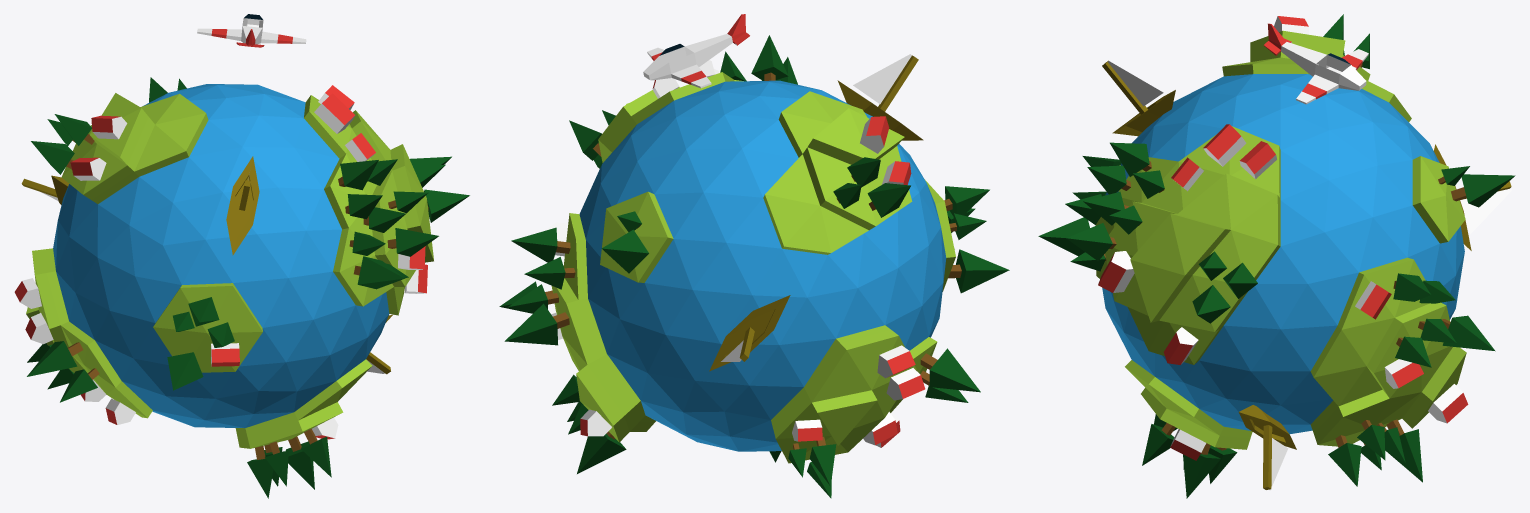
Rendered from planet3.glb.
3 views of the same model, side by side, from view 1: azimuth 30°, elevation 25°; view 2: azimuth 150°, elevation 25°; view 3: azimuth 270°, elevation 25° (orthographic). The views are drawn at different scales.
Parts seen in each view (by area): view 1: earth, tree.001, house, boat, airplane, boat.002; view 2: earth, tree.001, house, airplane, boat, boat.002; view 3: earth, tree.001, house, airplane, boat, boat.001, boat.002.
Part boxes in pixels (x1,y1,x2,y2): earth: (26, 84, 433, 448); tree.001: (27, 77, 469, 498); house: (14, 85, 427, 439); boat: (226, 156, 259, 255); airplane: (197, 14, 306, 47); boat.002: (21, 175, 68, 204); earth: (551, 72, 955, 463); tree.001: (499, 35, 1009, 498); house: (545, 60, 954, 447); airplane: (643, 14, 749, 88); boat: (837, 54, 923, 140); boat.002: (709, 295, 790, 371); earth: (1095, 30, 1466, 449); tree.001: (1038, 14, 1515, 498); house: (1098, 16, 1468, 460); airplane: (1263, 23, 1368, 104); boat: (1102, 60, 1175, 136); boat.001: (1238, 405, 1296, 490); boat.002: (1434, 144, 1511, 250).
Bounding box in the file's own units: 2.7 × 2.77 × 2.59.
